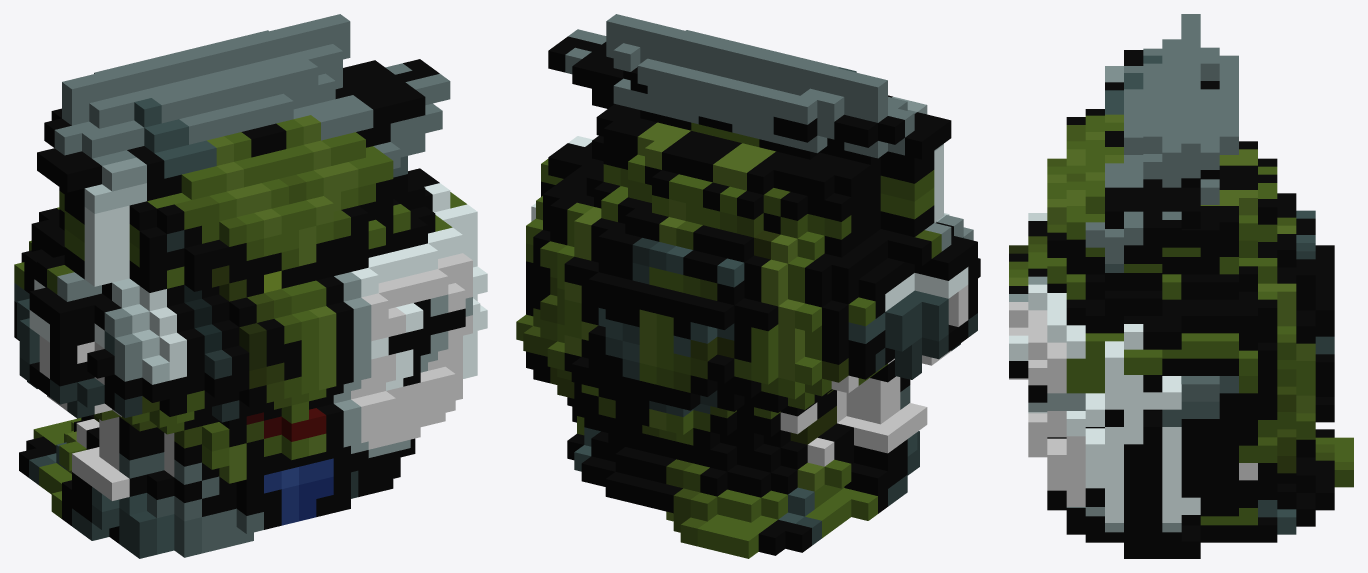
The model's file is Icon_022_03.obj.
3 renders of one model, left to right at view 1: azimuth 30°, elevation 25°; view 2: azimuth 150°, elevation 25°; view 3: azimuth 270°, elevation 25°, orthographic. The views are drawn at different scales.
Size of the model in its own units: 2.4 by 2.4 by 1.8.
1 material, 1 textured.
